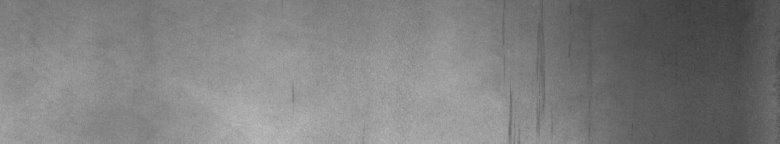ka: (508, 66, 545, 136)
